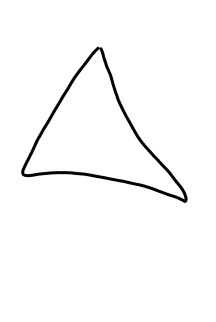Triangle: (17, 44, 192, 206)
